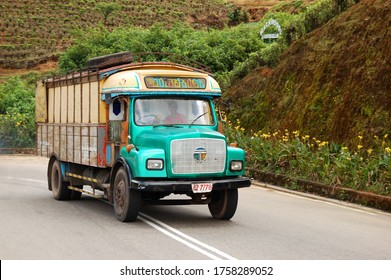truck: (34, 53, 251, 222)
